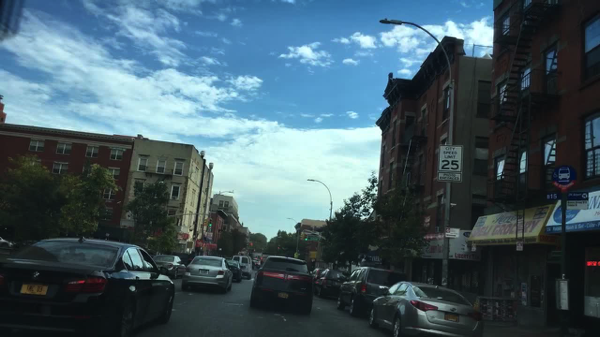car: (1, 238, 175, 334), (368, 280, 481, 336), (250, 257, 313, 315), (337, 266, 407, 316), (182, 255, 232, 293), (313, 267, 348, 298), (153, 255, 186, 279), (232, 255, 252, 279), (225, 260, 242, 283), (14, 240, 39, 249), (0, 236, 13, 249), (311, 267, 323, 281), (252, 257, 261, 268), (256, 254, 262, 263), (263, 255, 269, 262), (149, 255, 154, 258)
traffic light: (209, 219, 213, 228), (305, 232, 308, 242), (300, 232, 303, 242), (204, 217, 206, 227), (278, 245, 280, 253), (250, 241, 252, 248)
traffic sign: (438, 143, 462, 183), (552, 164, 577, 190), (555, 278, 569, 312), (567, 192, 588, 210), (444, 228, 459, 239), (544, 193, 561, 200), (206, 244, 217, 251), (307, 237, 322, 241), (309, 251, 316, 259), (208, 232, 213, 241), (294, 253, 298, 258)
